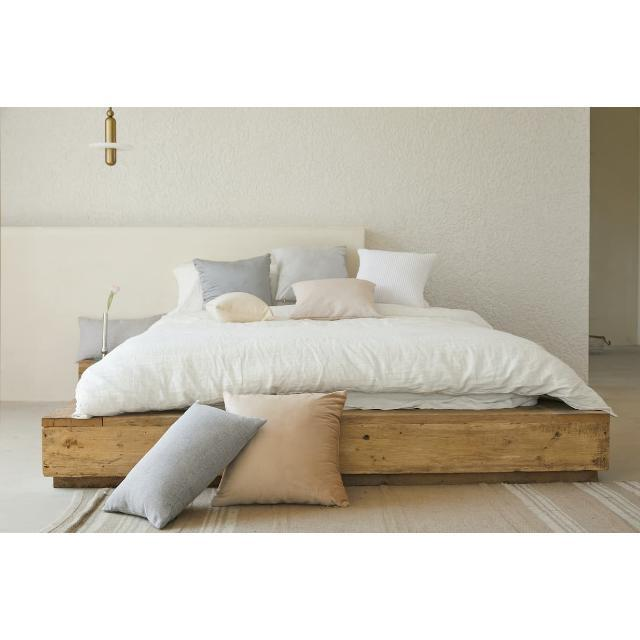pillow: (100, 402, 264, 532), (213, 391, 352, 508), (270, 244, 357, 301), (355, 247, 438, 306), (189, 252, 276, 303), (287, 279, 387, 322), (205, 293, 273, 324)
